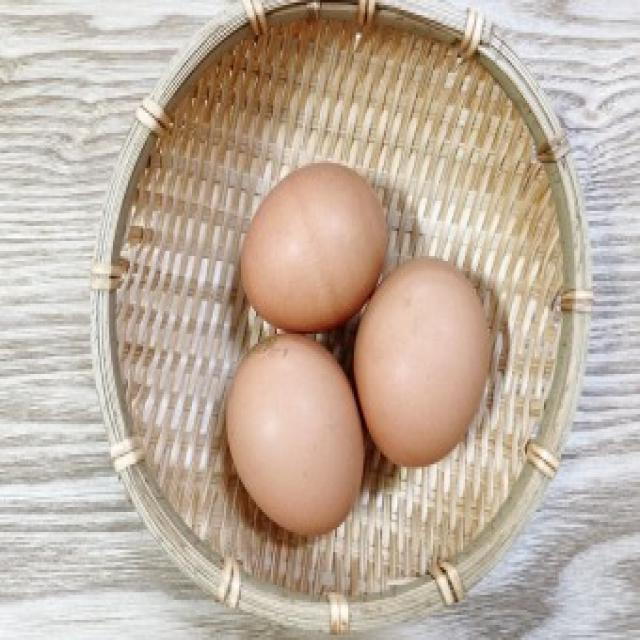eggs: (349, 256, 491, 472), (223, 336, 369, 534), (236, 161, 394, 337)
